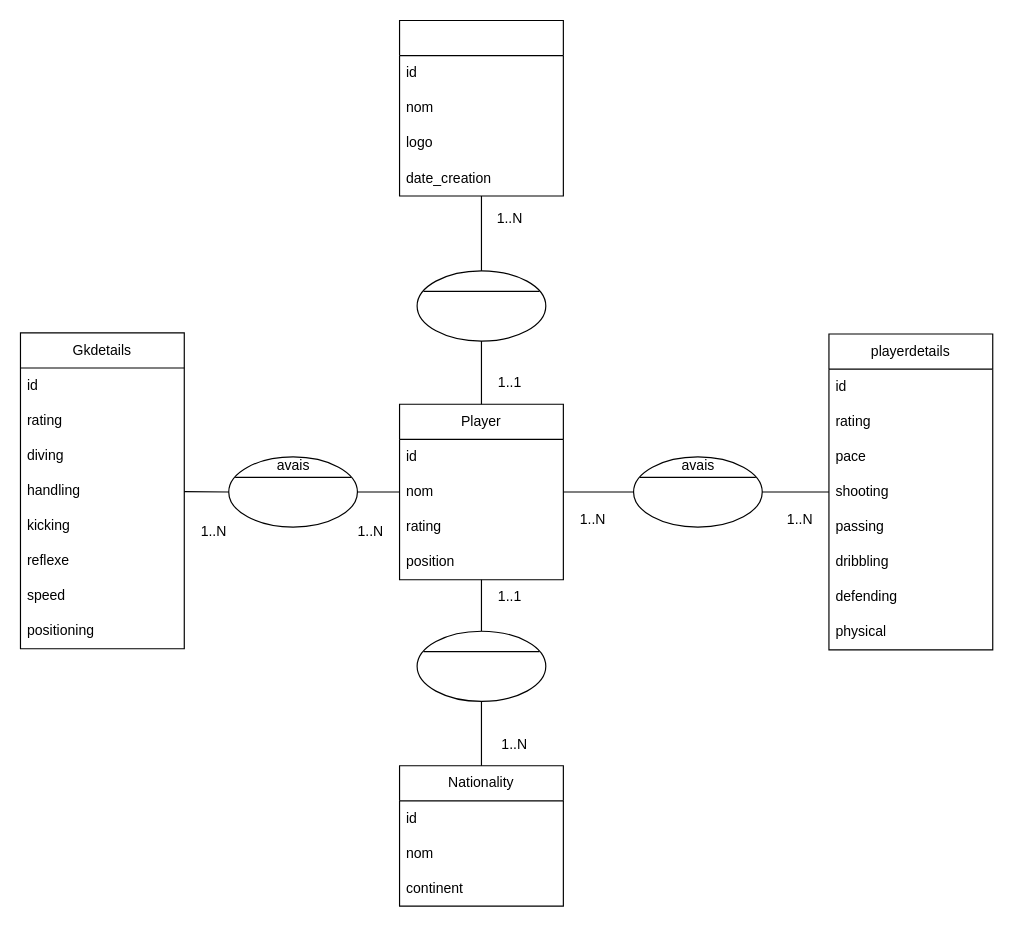
This 1013x927 diagram has some shape labels left out. The shapes that lost their labels are listed below. From the top down, each one's box as (x1, y1, x2, y2) in pixels, then its label:
(398, 19, 563, 196): Club
(416, 270, 546, 341): joindre
(416, 630, 546, 701): naissance
